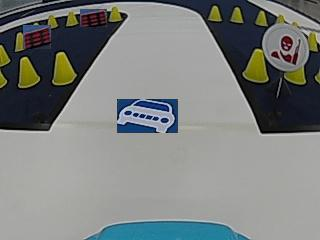evil: (261, 24, 307, 70)
